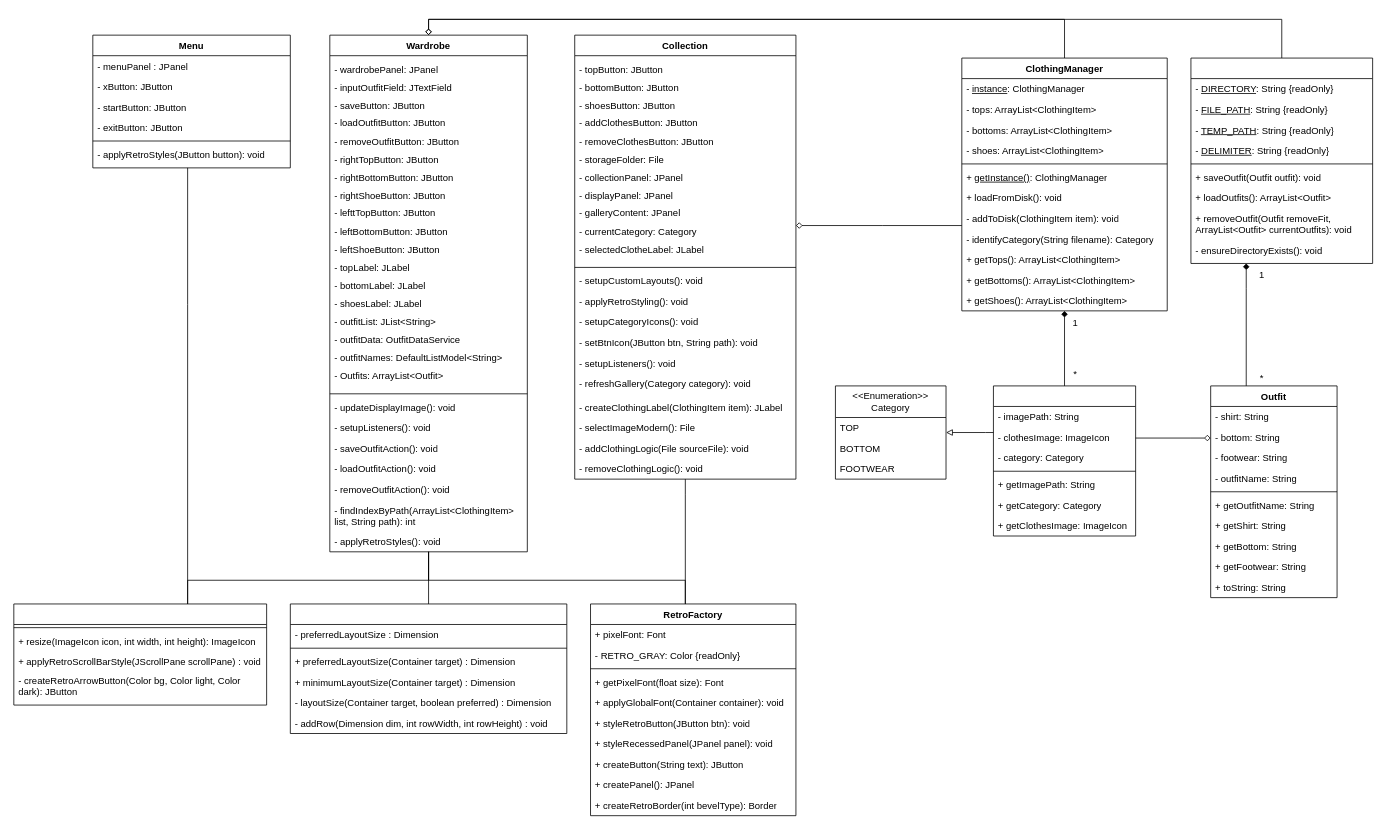
This 1386x832 diagram has some shape labels left out. The box of each missing label's shape, as (x1, y1, x2, y2) in pixels:
ClothingItem: (993, 385, 1136, 536)
OutfitDataService: (1190, 57, 1373, 263)
UI_Utilities: (13, 603, 267, 705)
WrapLayout: (290, 603, 567, 734)
